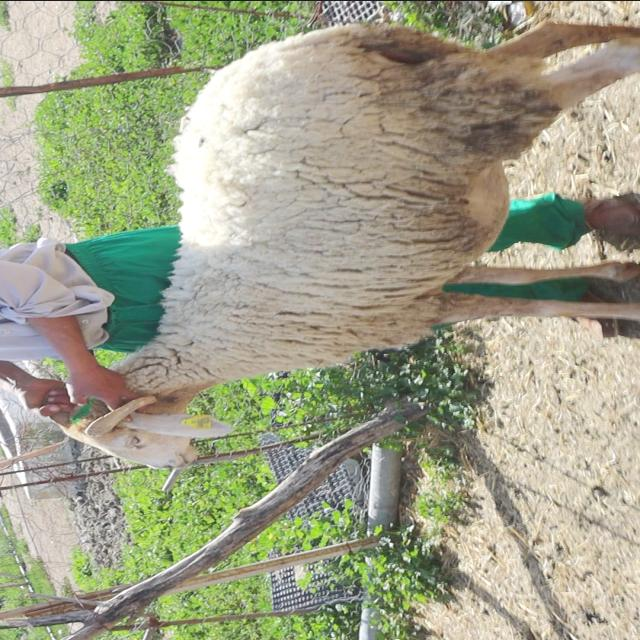Score_4: (35, 21, 639, 468)
